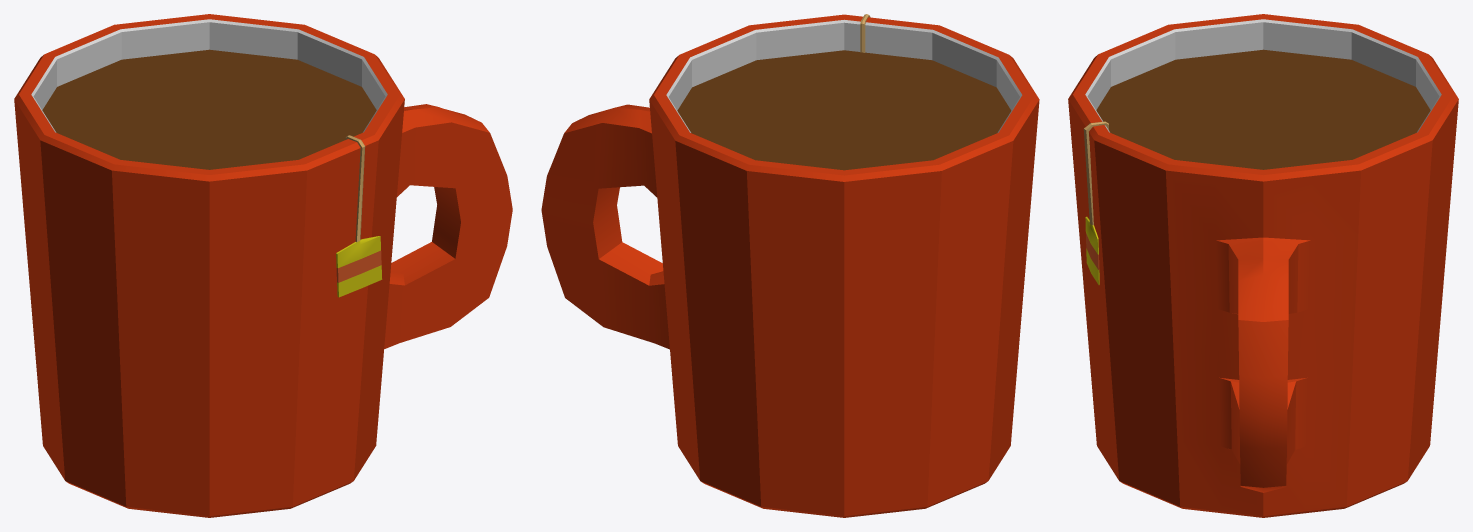
The model's file is TeaCup.fbx.
The picture shows the model from 3 angles, left to right: view 1: azimuth 30°, elevation 25°; view 2: azimuth 150°, elevation 25°; view 3: azimuth 270°, elevation 25°; orthographic projection.
Parts seen in each view (by area): view 1: tea_cup; view 2: tea_cup; view 3: tea_cup.
Part boxes in pixels (bbox=[...]): tea_cup: bbox=[14, 14, 512, 517]; tea_cup: bbox=[541, 14, 1039, 517]; tea_cup: bbox=[1068, 14, 1458, 517].
Size of the model in its own units: 274 by 201 by 200.
